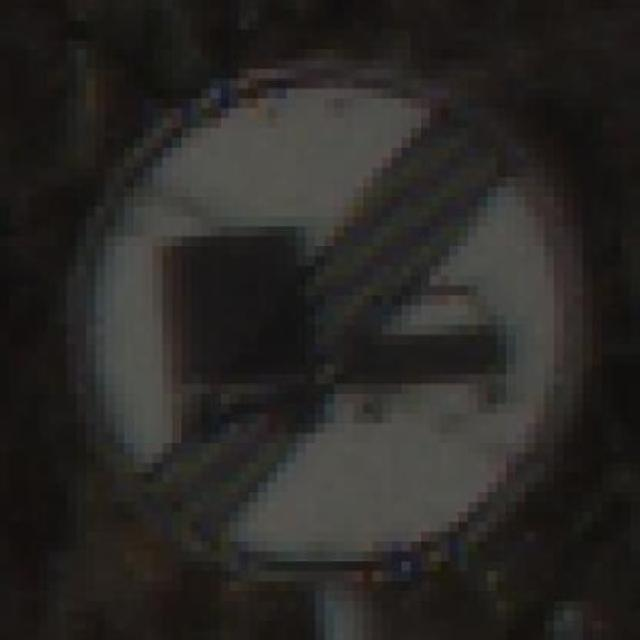Overtaking by trucks is prohibited: (48, 59, 622, 601)
